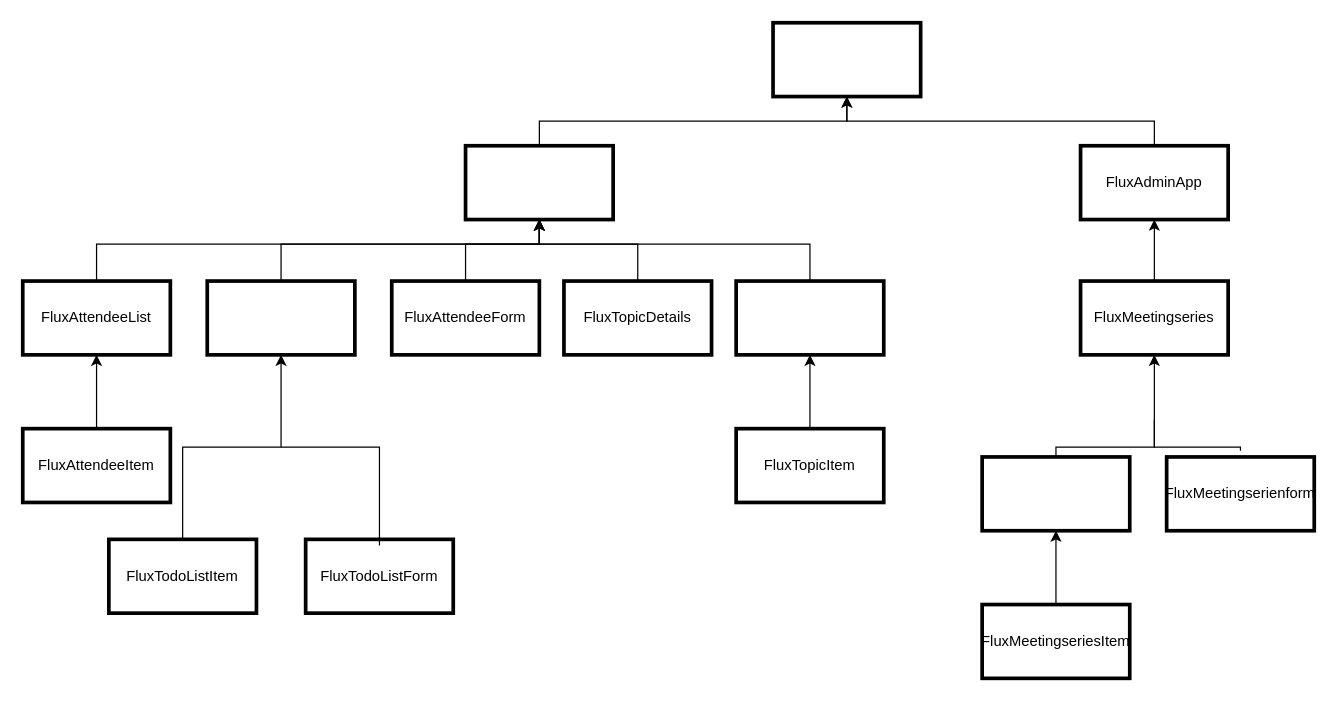
This 1337x701 diagram has some shape labels left out. The shapes that lost their labels are listed below. From the top down, each one's centre as x and y in pixels, then its label:
At (846,59): "app.js".
At (538,182): "FluxMeetingApp".
At (280,317): "FluxTodoList".
At (809,317): "FluxTopicList".
At (1055,493): "FluxMeetingseriesList".
